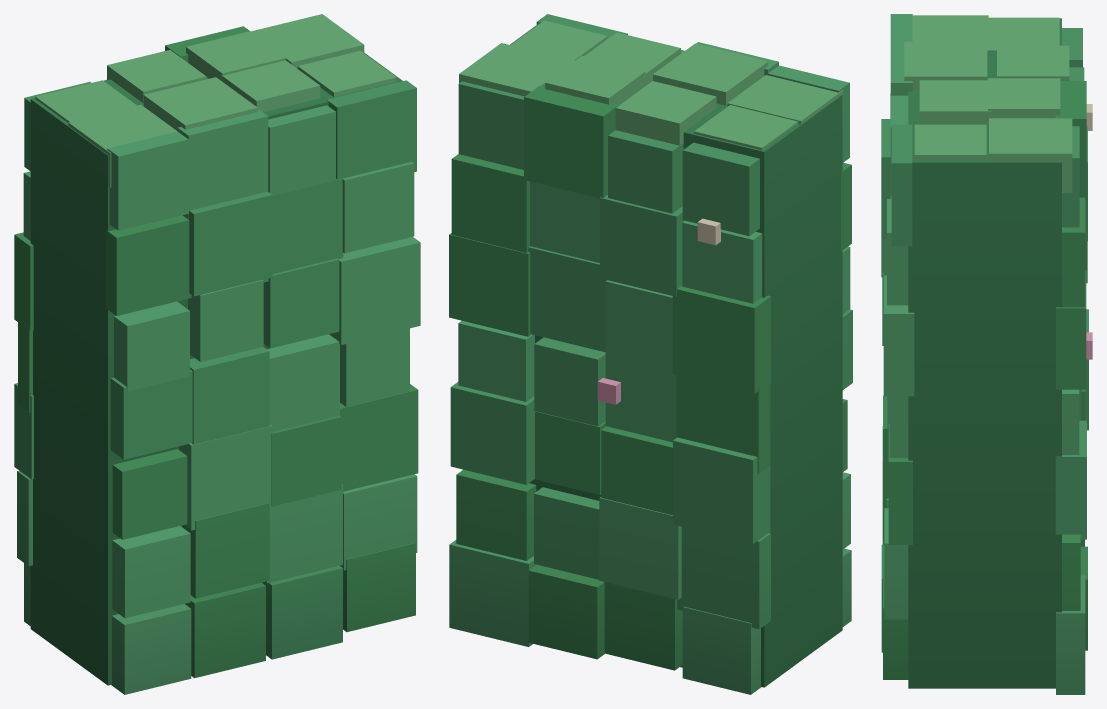
Rendered from hedge-2m-h3.4.glb.
3 renders of one model, left to right at view 1: azimuth 30°, elevation 25°; view 2: azimuth 150°, elevation 25°; view 3: azimuth 270°, elevation 25°, orthographic.
Visible parts, largest first — view 1: hedge-2m-h3.4_body; view 2: hedge-2m-h3.4_body; view 3: hedge-2m-h3.4_body.
Part boxes in pixels (x1,y1,x2,y2): hedge-2m-h3.4_body: (14,14,420,694); hedge-2m-h3.4_body: (449,14,852,694); hedge-2m-h3.4_body: (881,14,1092,694).
Bounding box in the file's own units: 2.05 × 3.53 × 1.24.
